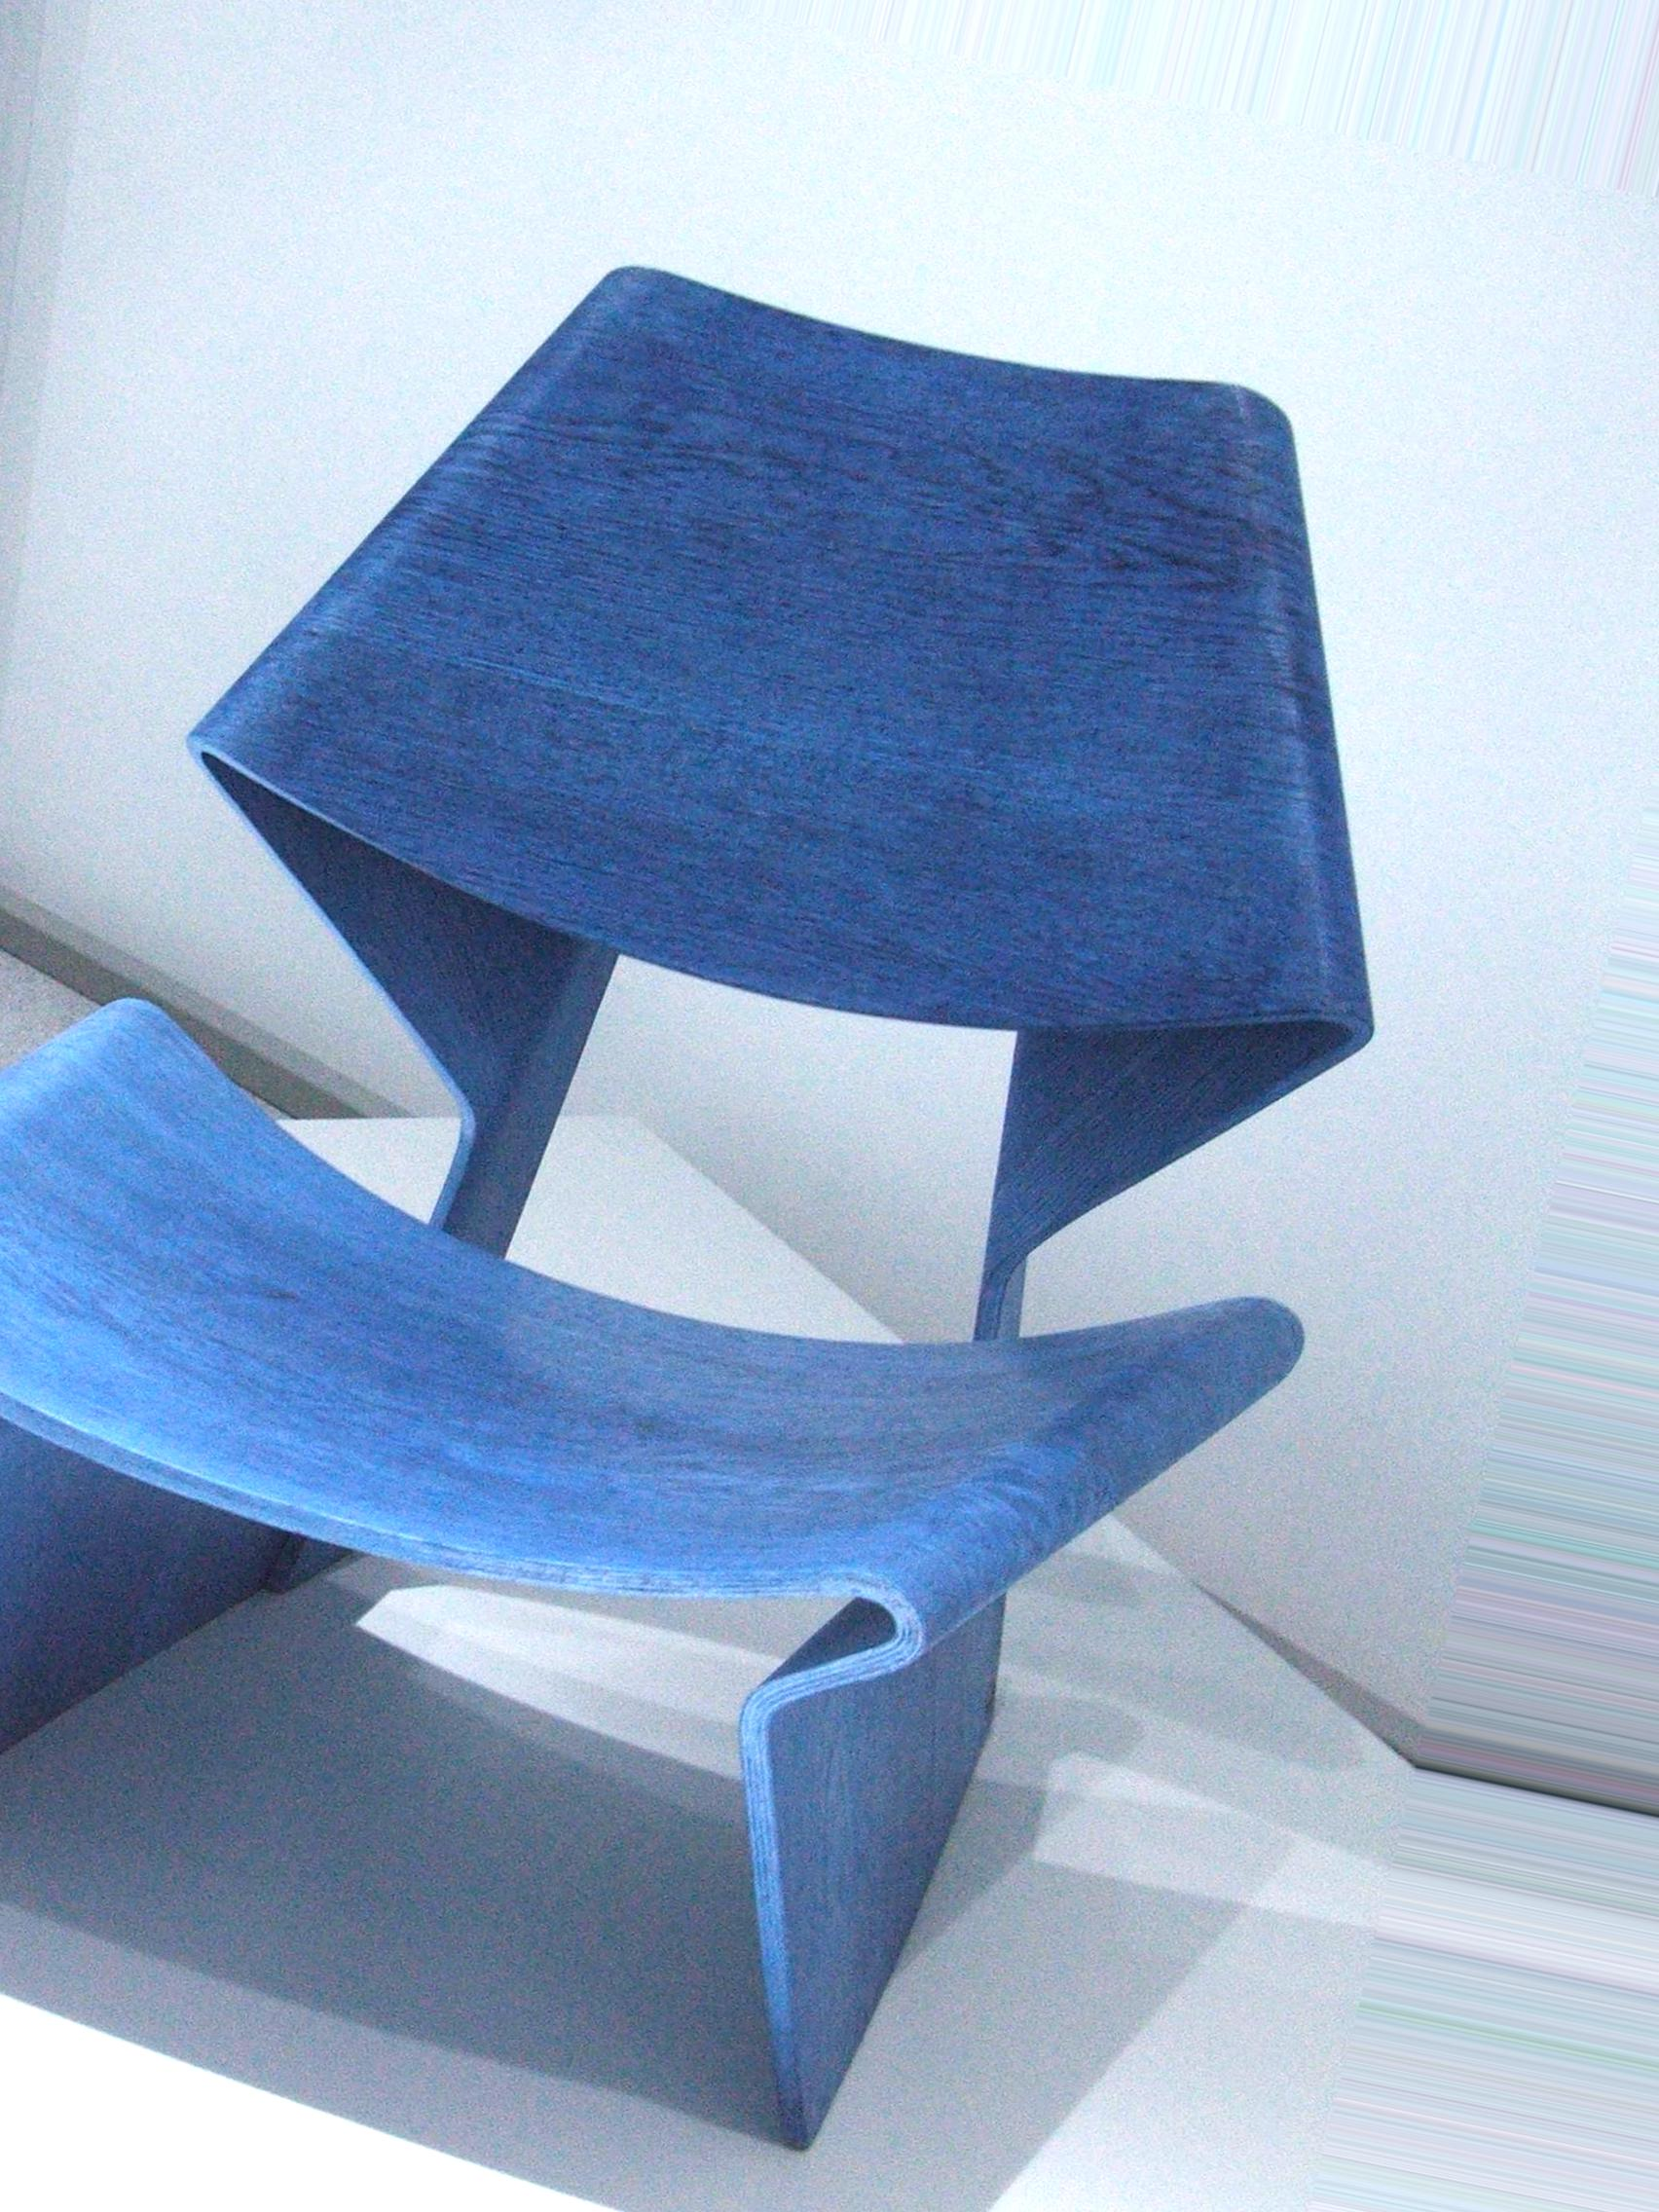chair: (2, 261, 1387, 2151)
